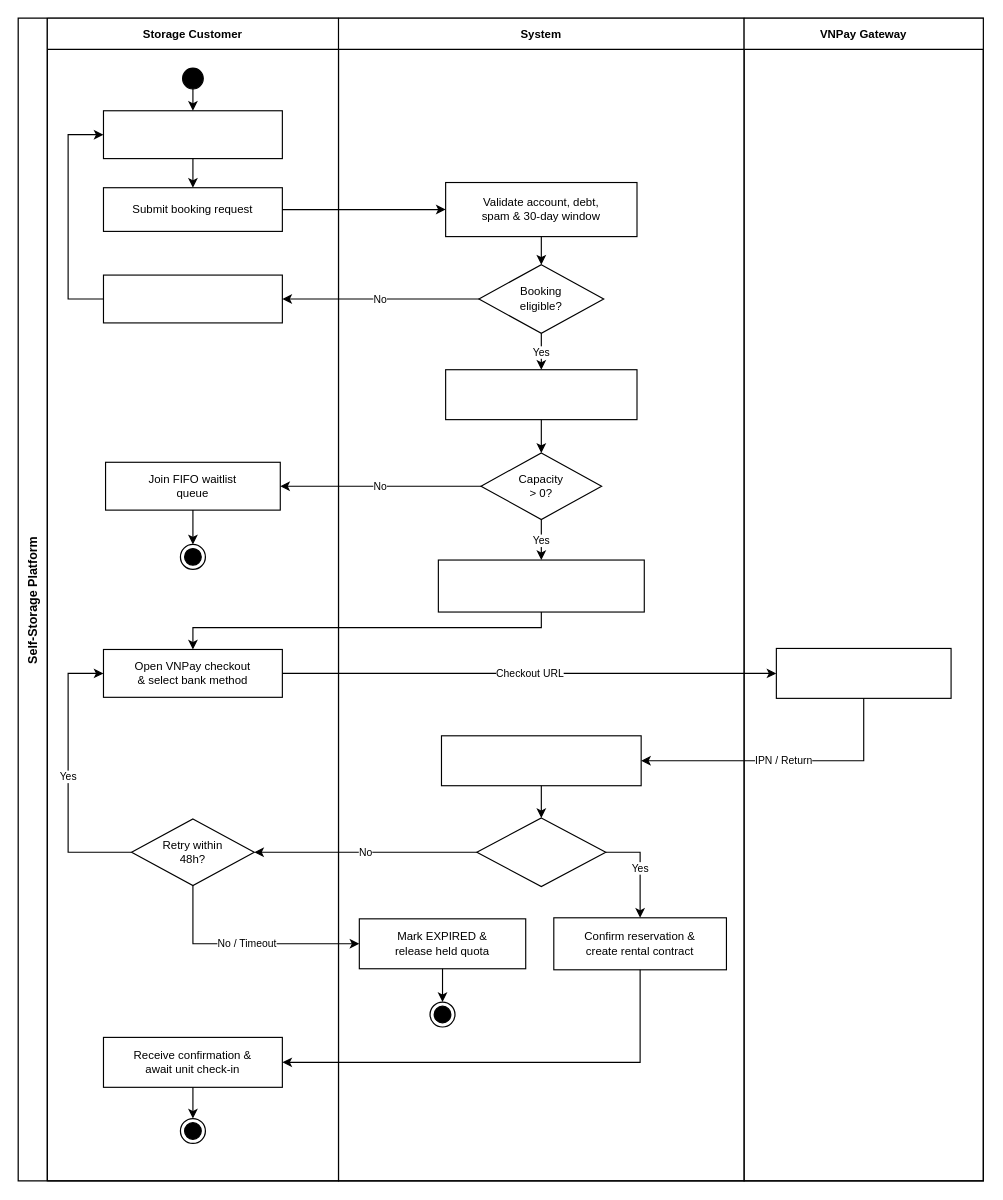
This 1003x1200 diagram has some shape labels left out. Each missing label, with the centre of its shape:
"Create hold (48h) & generate VNPay checkout" belongs at point 540,585.
"Lock & check quota, calculate rent & deposit" belongs at point 541,394.
"Paid & within 48h hold?" belongs at point 541,852.
"Process bank/card & send IPN / return" belongs at point 863,672.
"Select facility, unit type & rental period" belongs at point 192,134.
"Show booking error & adjust selection" belongs at point 192,298.
"Verify VNPay checksum, amount & 48h hold" belongs at point 540,760.
